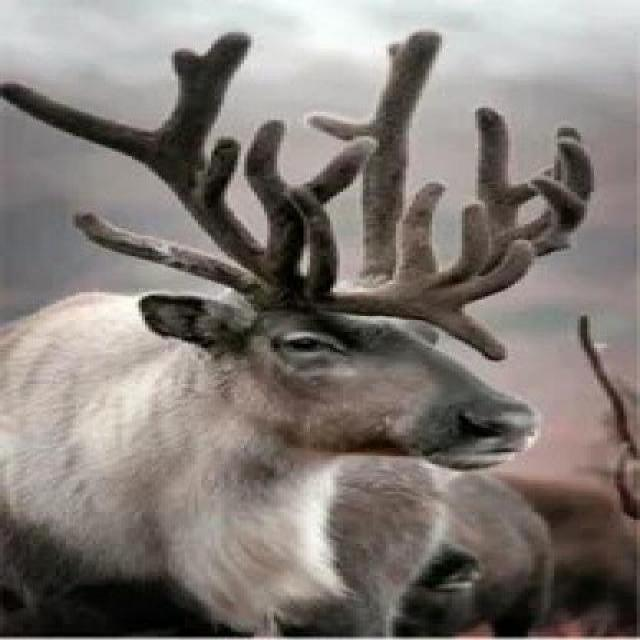deer: (0, 63, 603, 622)
